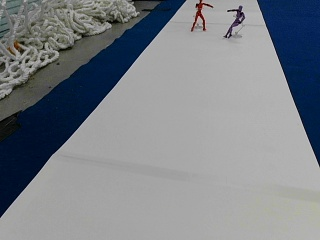pedestrian: (224, 4, 245, 38), (190, 1, 213, 31)
